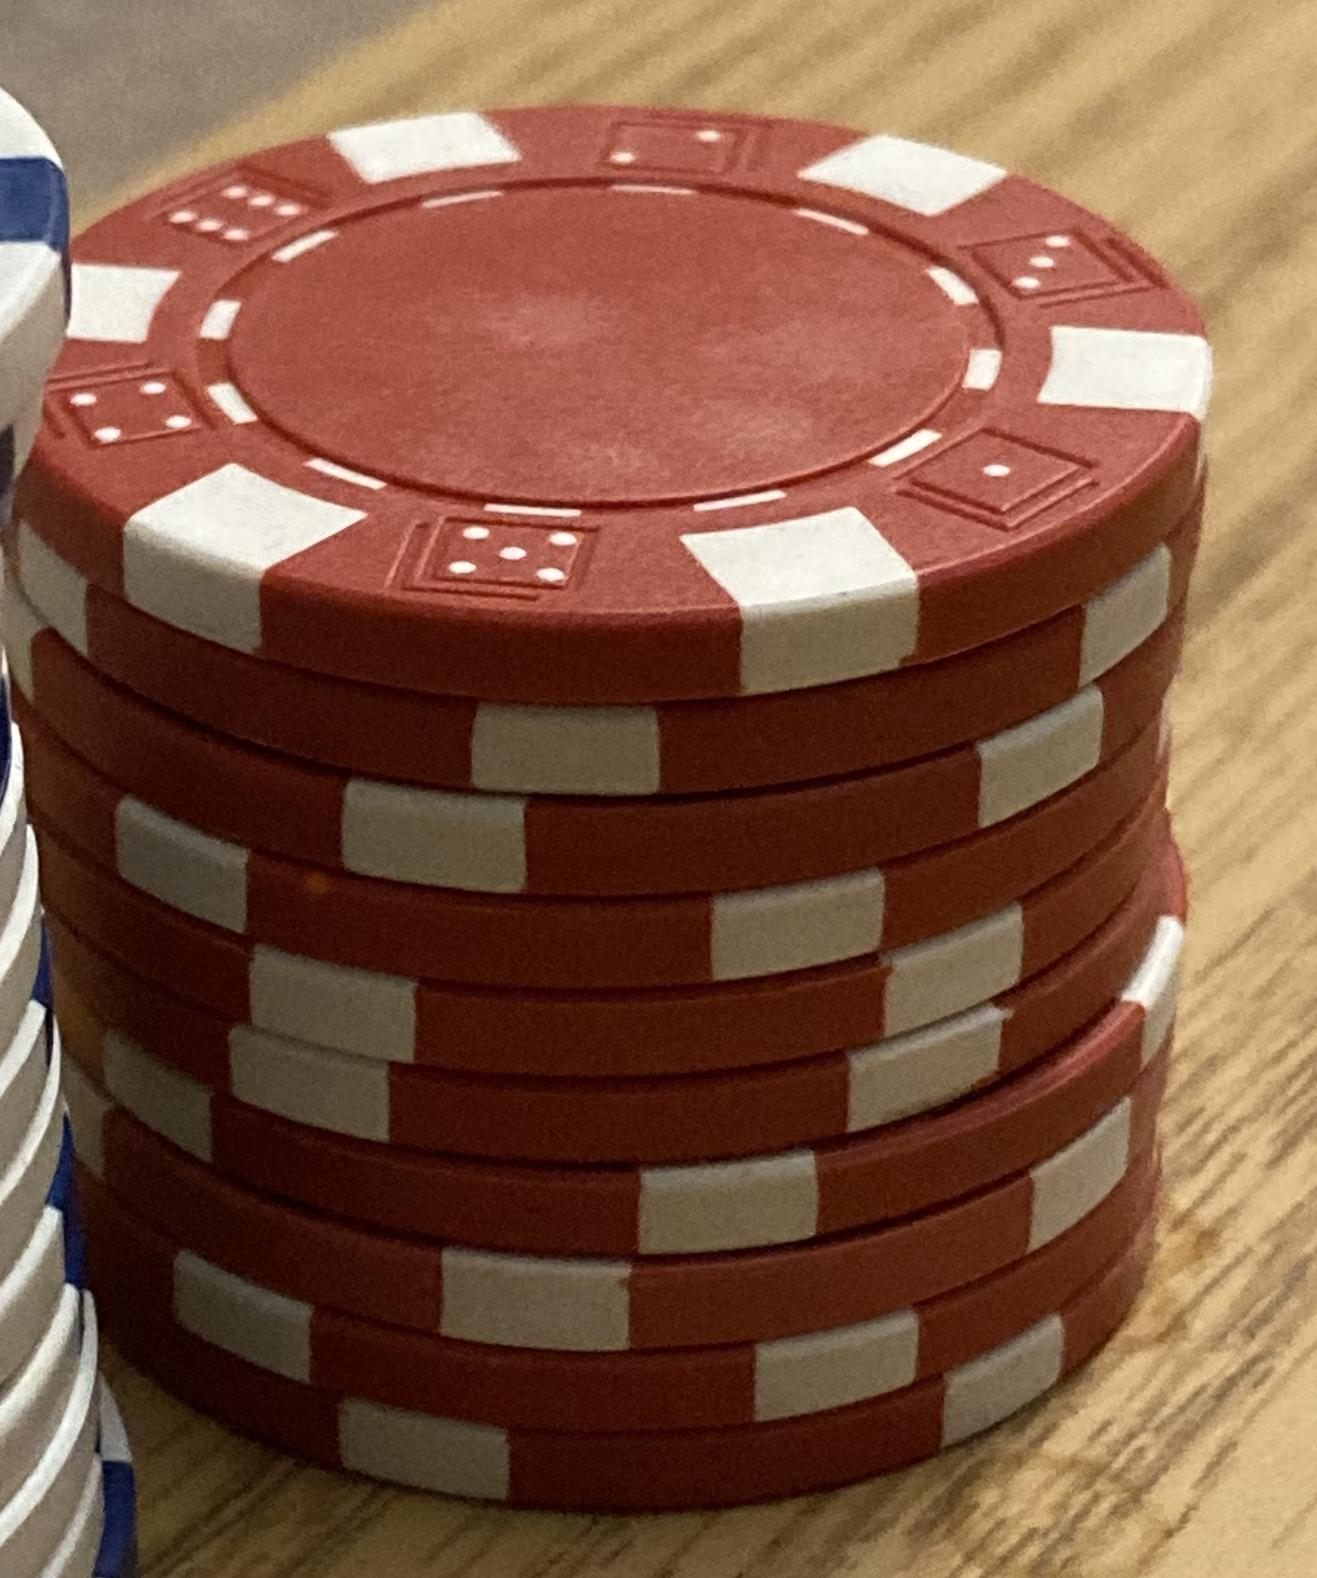Chip: (1, 1, 1317, 1578)
